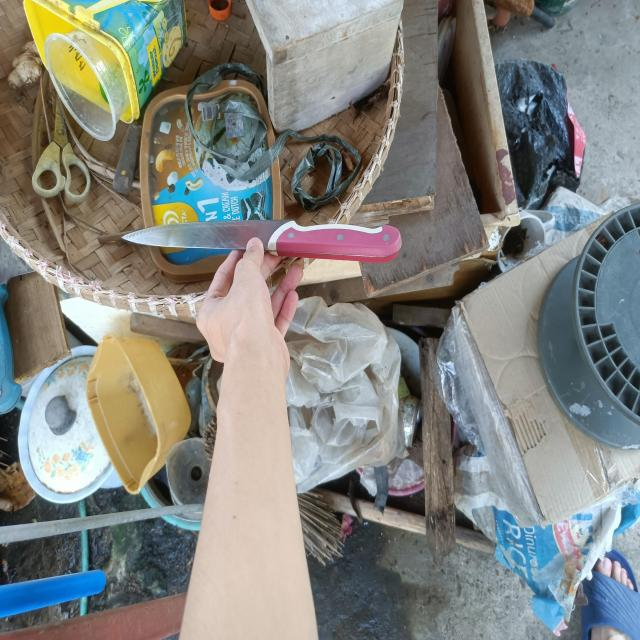knife: (122, 220, 400, 264)
